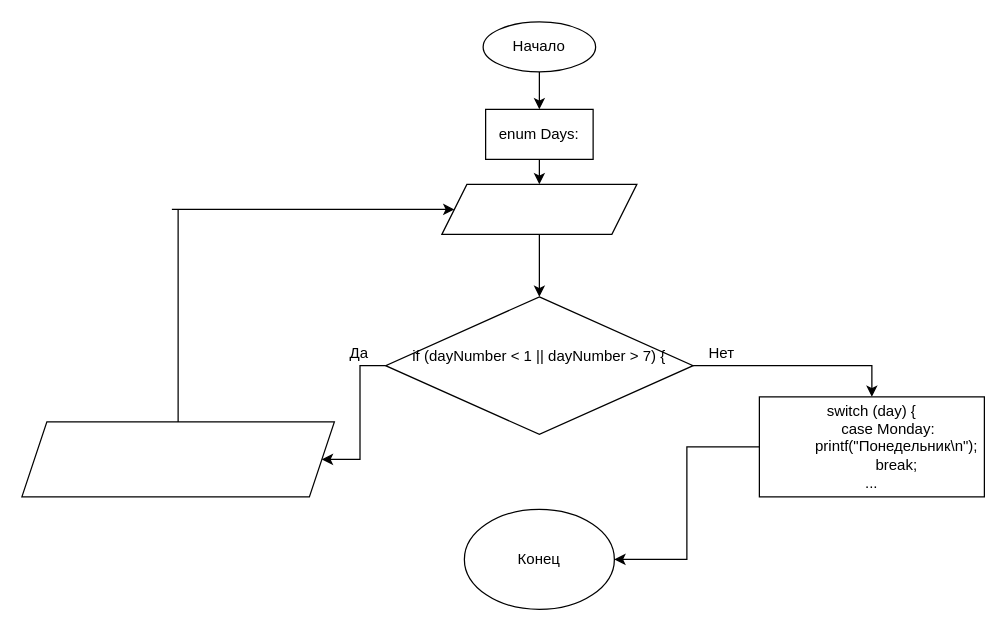
Some shapes in this 1006 by 631 pixel diagram are drawn without their labels. The box of each missing label's shape, as (x1, y1, x2, y2) in pixels:
"Введите № дня недели : ": (441, 183, 637, 234)
printf("Ошибка"): (21, 421, 334, 497)
